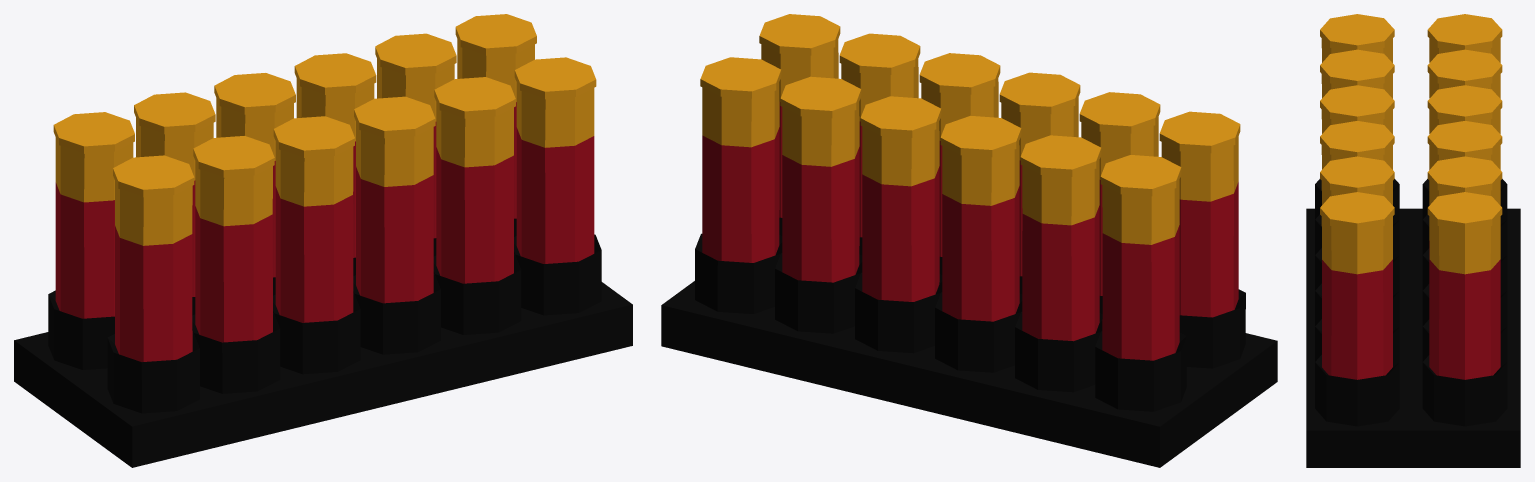
The model's file is ShotgunAmmo.glb.
3 renders of one model, left to right at view 1: azimuth 30°, elevation 25°; view 2: azimuth 150°, elevation 25°; view 3: azimuth 270°, elevation 25°, orthographic. The views are drawn at different scales.
Visible parts, largest first — view 1: ShotgunShell.001, ShotgunShell, ShellHolder; view 2: ShotgunShell, ShotgunShell.001, ShellHolder; view 3: ShotgunShell, ShotgunShell.001, ShellHolder.
Part boxes in pixels (box(x1,y1,x2,y2)): ShotgunShell.001: box(107, 57, 601, 413); ShotgunShell: box(48, 14, 536, 369); ShellHolder: box(14, 282, 632, 467); ShotgunShell: box(695, 57, 1186, 411); ShotgunShell.001: box(759, 14, 1245, 368); ShellHolder: box(661, 281, 1277, 467); ShotgunShell: box(1422, 14, 1507, 426); ShotgunShell.001: box(1315, 14, 1399, 426); ShellHolder: box(1306, 208, 1520, 467).
Size of the model in its own units: 10.78 by 5.4 by 4.4.
